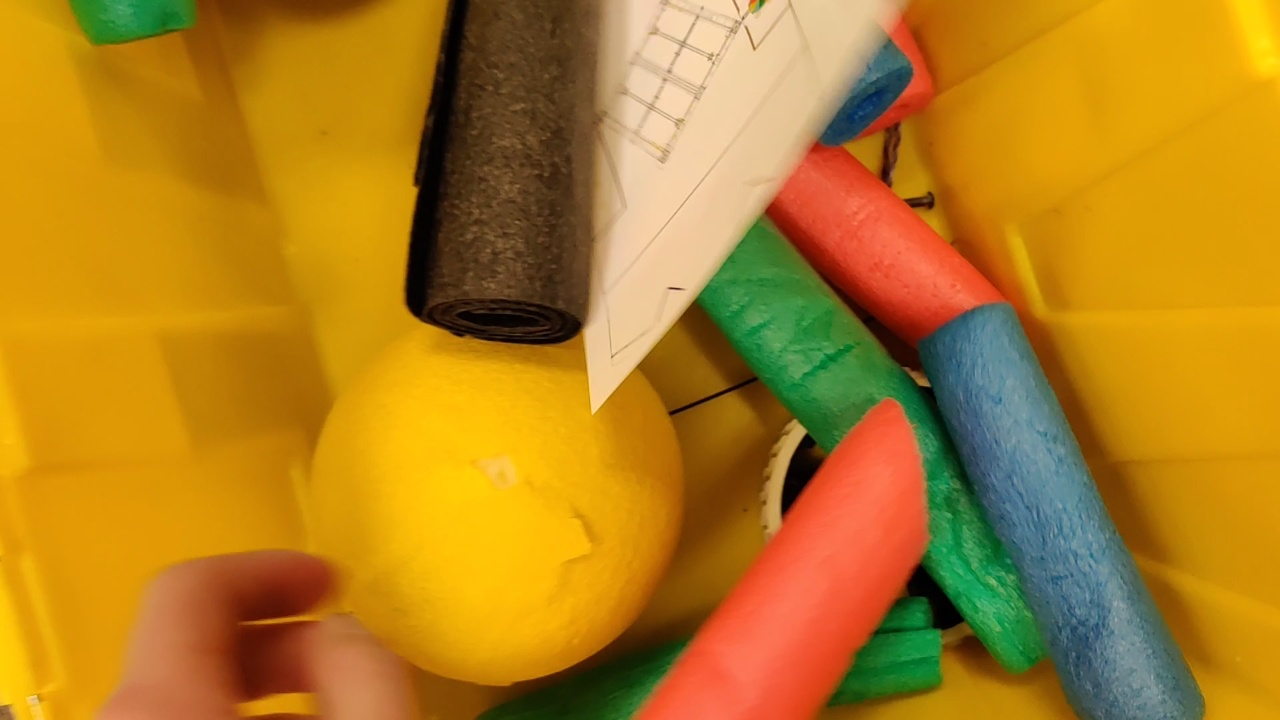Ball: (316, 331, 679, 686)
